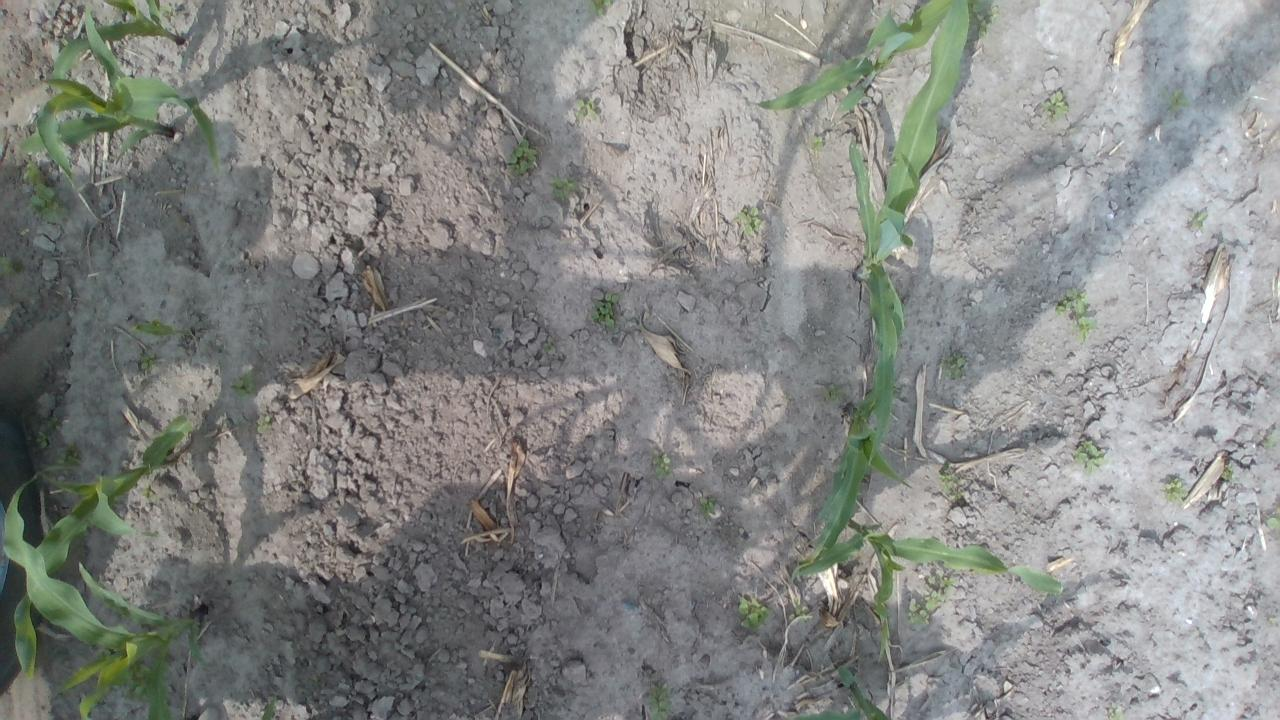Maize: (0, 463, 279, 720), (845, 0, 968, 464), (12, 414, 194, 678), (797, 514, 1063, 658), (17, 7, 224, 184), (752, 0, 953, 113), (794, 385, 910, 569), (52, 0, 185, 93), (784, 667, 896, 720), (130, 318, 196, 339)
Weeds: (22, 159, 68, 223), (925, 568, 957, 612), (968, 0, 1001, 42), (122, 660, 152, 704), (738, 595, 772, 633), (506, 135, 535, 176), (1074, 438, 1106, 474), (592, 291, 618, 331), (1055, 288, 1088, 318), (54, 441, 82, 476), (648, 680, 672, 720), (734, 207, 764, 238), (1042, 89, 1070, 121), (938, 466, 962, 501), (548, 176, 578, 204), (230, 368, 257, 398), (1072, 316, 1098, 344), (941, 352, 966, 381), (904, 598, 930, 625), (1165, 477, 1189, 506), (572, 96, 598, 122), (698, 494, 718, 521), (1166, 88, 1188, 112), (584, 0, 614, 17), (1188, 209, 1210, 232), (654, 452, 672, 480), (791, 596, 810, 622), (822, 382, 842, 402), (0, 255, 21, 274), (808, 132, 826, 152), (142, 480, 158, 502), (138, 352, 158, 369), (1263, 429, 1280, 448), (256, 415, 272, 434), (35, 431, 50, 450), (1263, 513, 1280, 529), (158, 4, 178, 17), (1106, 703, 1121, 720), (1222, 463, 1234, 481), (96, 646, 112, 658), (61, 37, 72, 47), (543, 343, 553, 352), (1268, 616, 1275, 624)
